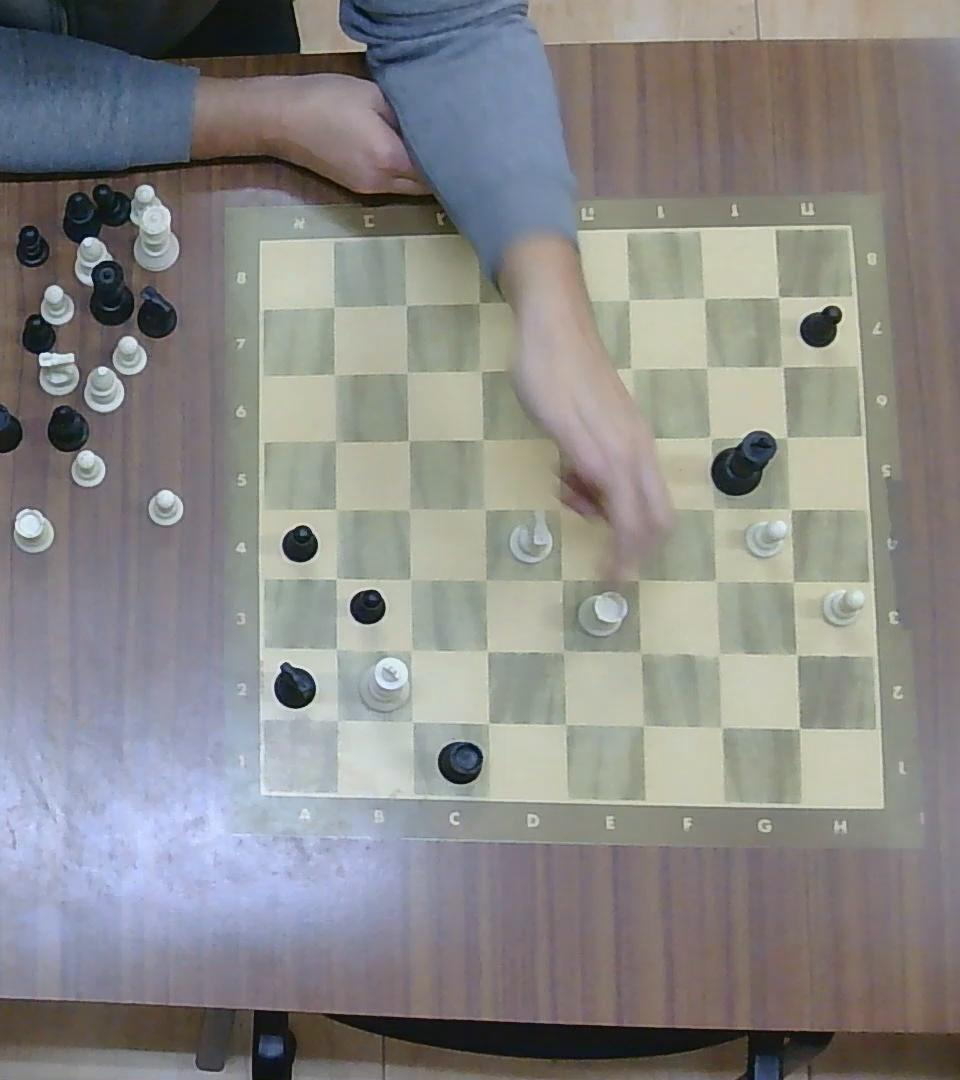xcorner: (781, 710, 815, 744), (702, 638, 734, 670), (705, 710, 736, 743), (625, 635, 656, 667), (626, 709, 657, 741), (320, 703, 352, 734), (622, 563, 653, 594), (549, 706, 579, 738), (781, 639, 812, 669), (548, 636, 578, 666), (472, 707, 502, 737), (700, 565, 730, 595), (397, 705, 427, 735), (548, 563, 577, 594), (472, 636, 501, 666), (622, 423, 651, 453), (615, 284, 644, 313), (776, 493, 805, 522), (777, 566, 806, 594), (465, 287, 493, 316), (471, 566, 500, 594), (319, 291, 348, 319), (396, 635, 424, 664), (769, 351, 797, 380), (538, 353, 566, 382), (321, 636, 350, 663), (546, 424, 573, 453), (471, 494, 499, 521), (699, 494, 727, 521), (467, 356, 495, 383), (693, 352, 721, 379), (622, 491, 648, 520), (539, 283, 564, 313), (692, 283, 719, 310), (618, 354, 645, 381), (393, 290, 419, 317), (396, 494, 422, 521), (323, 427, 349, 453), (774, 422, 800, 448), (324, 496, 350, 522), (396, 566, 423, 591), (396, 427, 421, 453), (394, 358, 420, 383), (323, 566, 349, 591), (471, 426, 497, 451), (547, 495, 573, 520), (699, 424, 724, 449), (767, 284, 791, 309), (322, 361, 348, 384)
